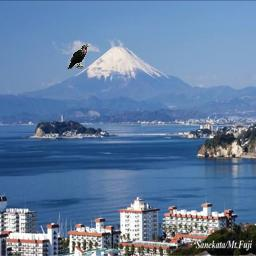Crow: (67, 44, 89, 69)
